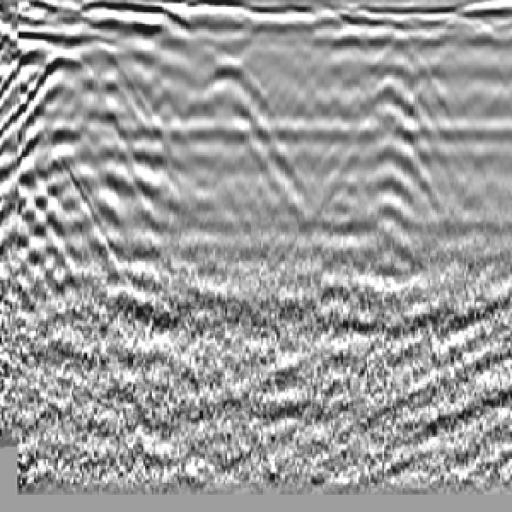non-metallic: (140, 31, 332, 229), (1, 34, 167, 254), (337, 27, 471, 264)
